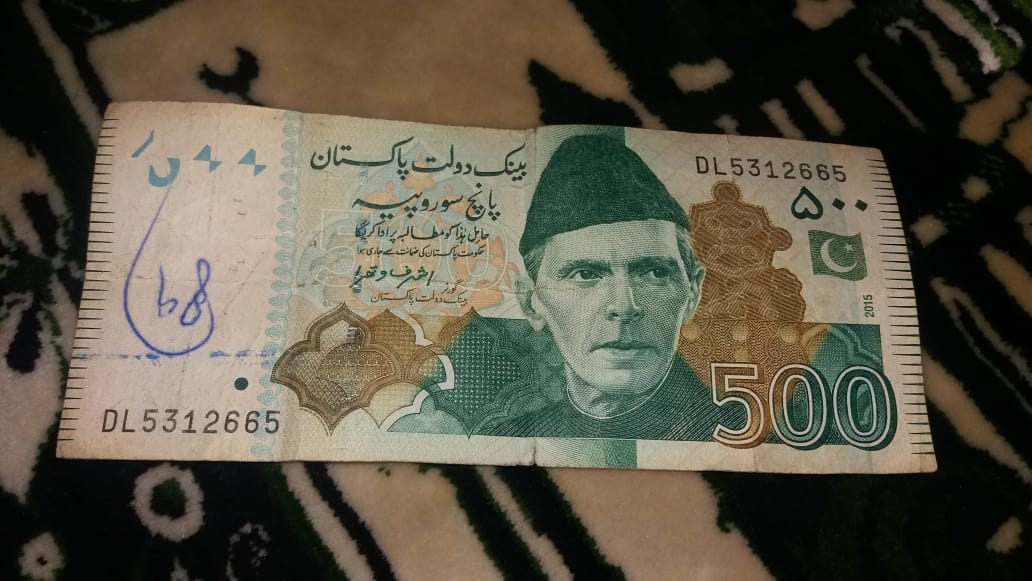500 rupee: (75, 93, 935, 488)
